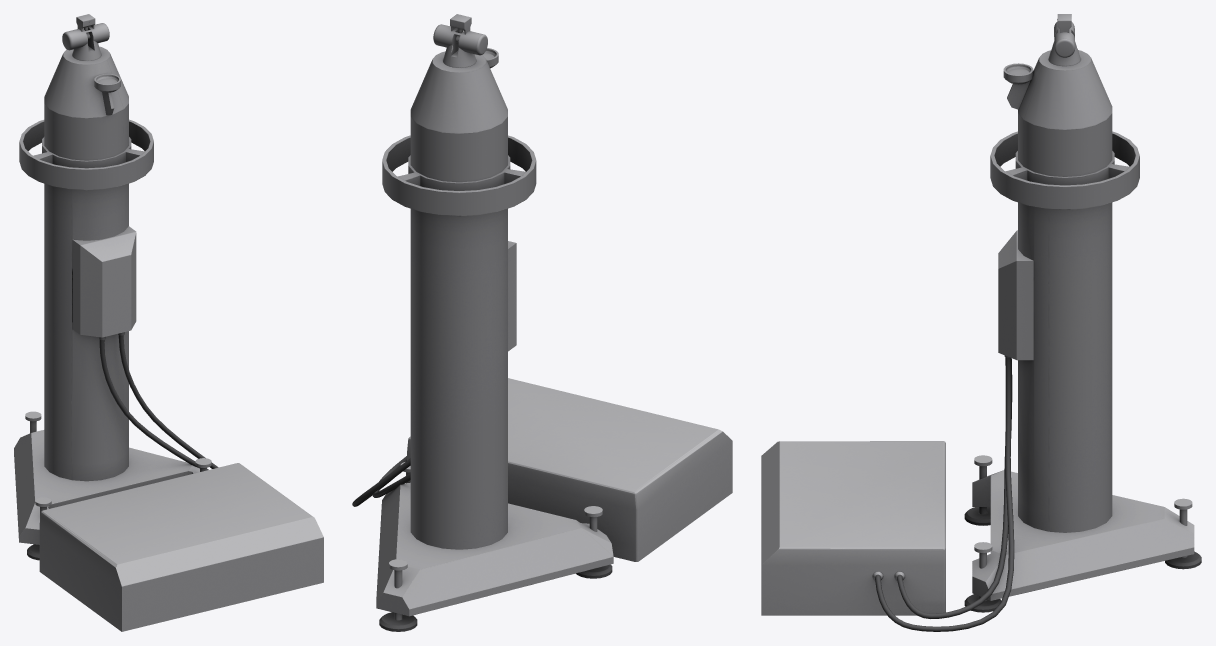
Rendered from Laser.FBX.
3 views of the same model, side by side, from view 1: azimuth 30°, elevation 25°; view 2: azimuth 150°, elevation 25°; view 3: azimuth 270°, elevation 25° (orthographic). The views are drawn at different scales.
Visible parts, largest first — view 1: LaserMain, LaserHead; view 2: LaserMain, LaserHead; view 3: LaserMain, LaserHead.
Part boxes in pixels (x1,y1,x2,y2): LaserMain: (14, 21, 323, 631); LaserHead: (62, 14, 109, 60); LaserMain: (352, 48, 732, 631); LaserHead: (433, 14, 487, 67); LaserMain: (761, 19, 1201, 631); LaserHead: (1048, 14, 1080, 66).
Size of the model in its own units: 817 by 1190 by 1620.
